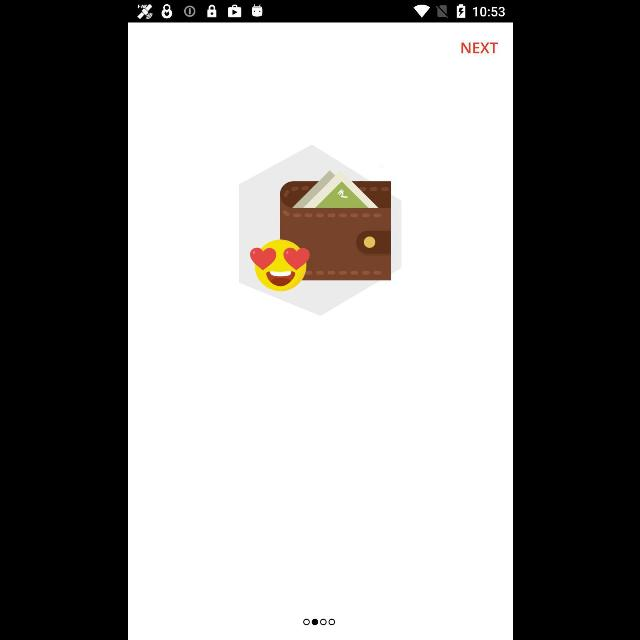image: (238, 144, 400, 316)
pageindicator: (302, 618, 334, 626)
text: (460, 42, 498, 54)
uppertaskbar: (128, 1, 512, 23)
